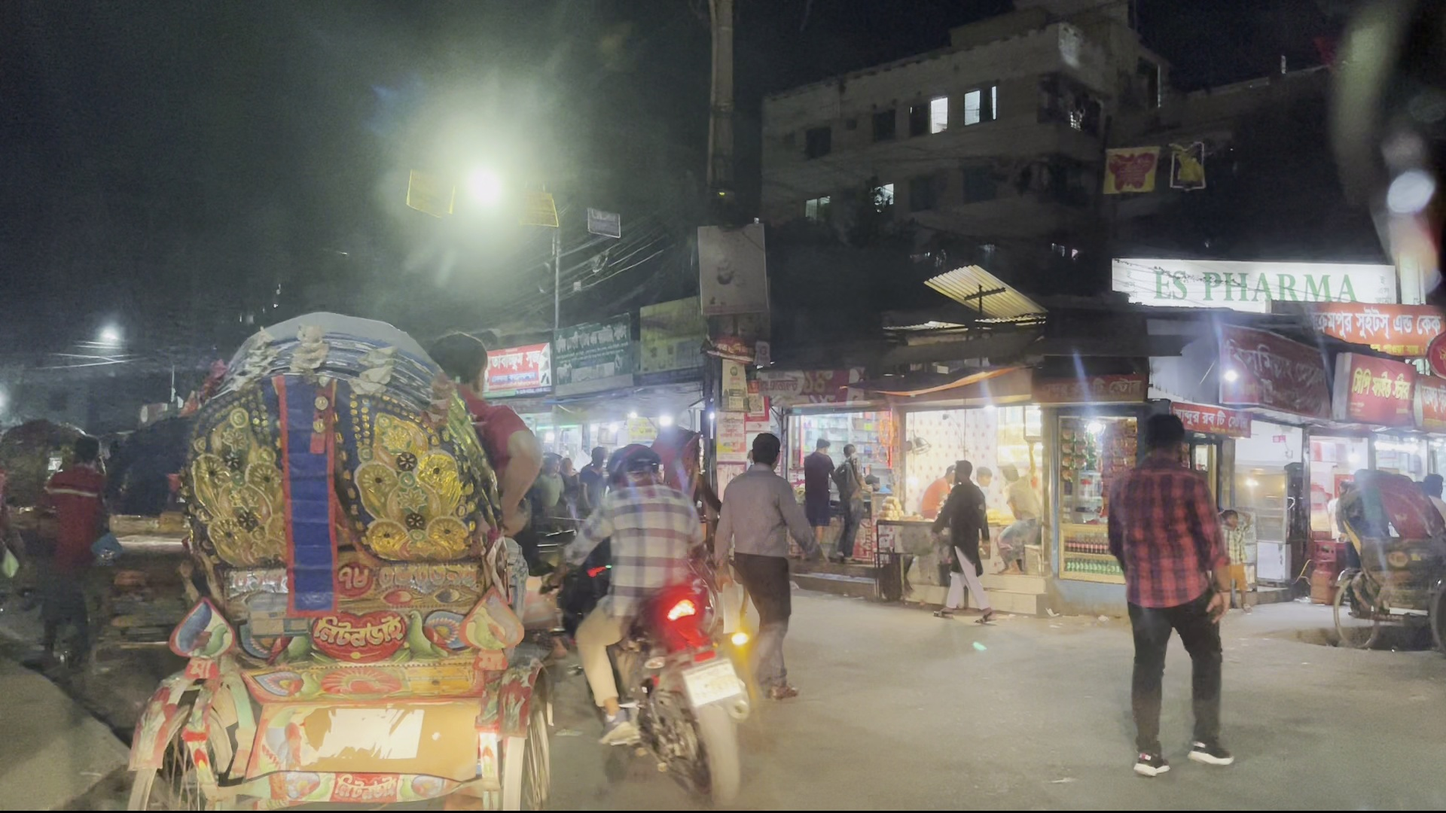person: (130, 321, 556, 802), (520, 386, 761, 795), (1088, 407, 1256, 778), (708, 414, 795, 653), (768, 428, 840, 620), (928, 456, 998, 621), (875, 449, 940, 617)
